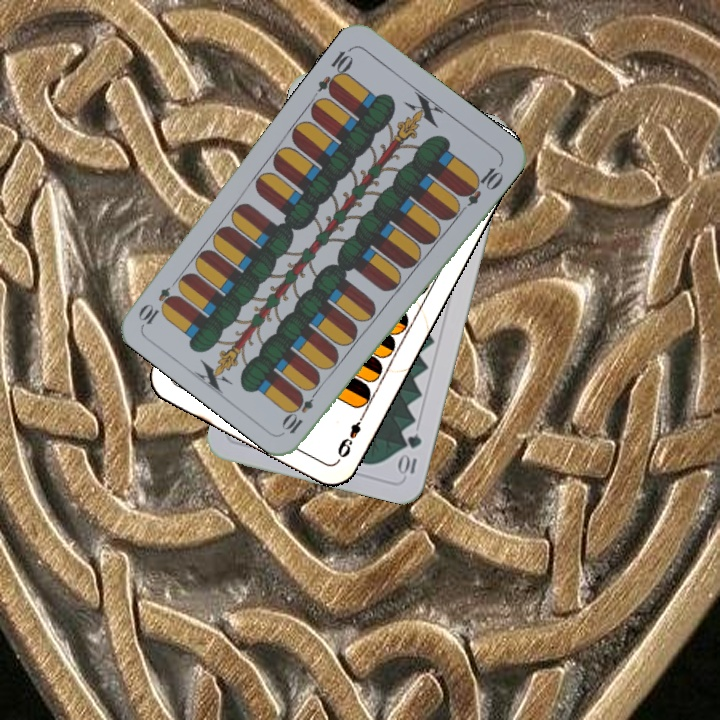E10: (314, 43, 356, 99), (279, 383, 322, 437)
E9: (333, 408, 368, 461)
G10: (396, 429, 425, 479)
